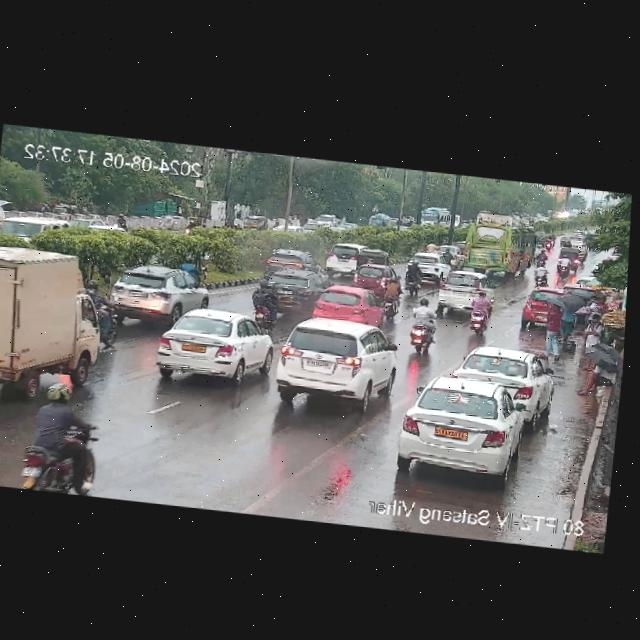bus: (452, 210, 542, 277)
car: (391, 371, 536, 479), (267, 313, 404, 409), (152, 304, 274, 386), (452, 343, 553, 405), (106, 261, 211, 320), (311, 282, 386, 329), (430, 270, 498, 311), (522, 281, 570, 332), (260, 265, 329, 296), (261, 248, 310, 275), (324, 244, 364, 276), (352, 263, 396, 284), (231, 213, 271, 234), (408, 250, 447, 270), (355, 248, 389, 269), (554, 246, 586, 266)
motorcycle: (19, 394, 98, 497), (404, 301, 441, 352), (462, 290, 495, 332), (254, 278, 279, 325), (380, 271, 403, 322), (400, 265, 425, 295), (556, 252, 573, 275)
person: (573, 362, 619, 398), (540, 302, 564, 358), (578, 295, 605, 335)
truck: (0, 245, 121, 403), (115, 211, 130, 229), (184, 218, 196, 237)
